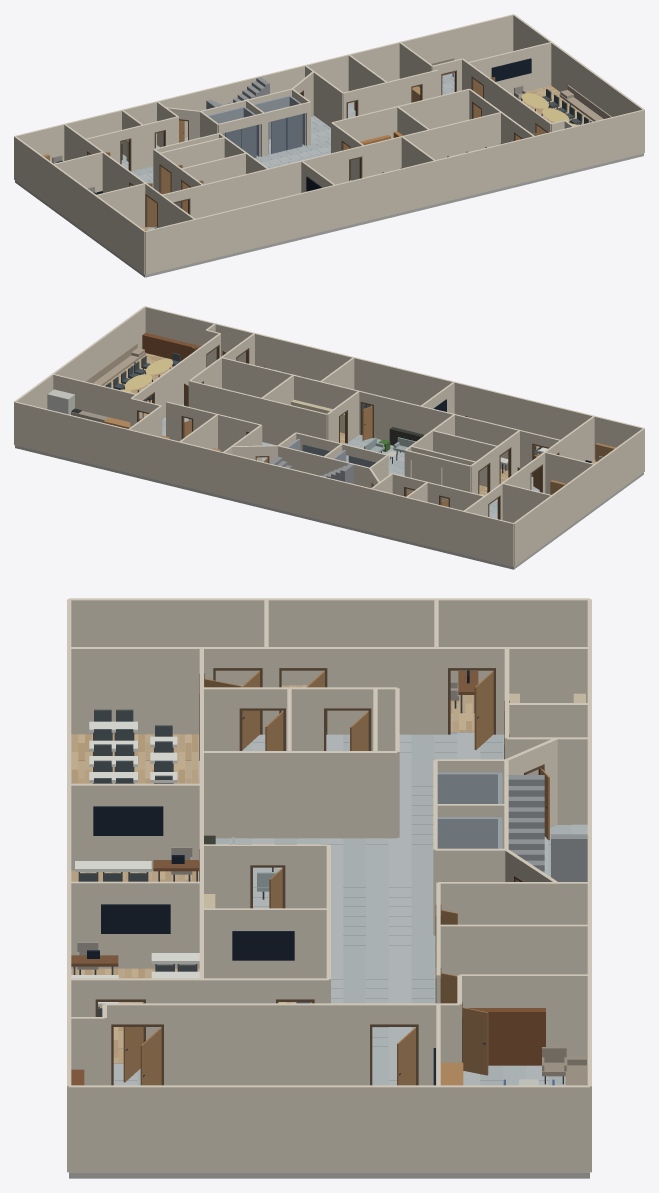
The model's file is bau-floor-8.glb.
The picture shows the model from 3 angles, top to bottom: view 1: azimuth 30°, elevation 25°; view 2: azimuth 150°, elevation 25°; view 3: azimuth 270°, elevation 25°; orthographic projection. The views are drawn at different scales.
Parts seen in each view (by area): view 1: Wall_20002, Wall_20000, Wall_20003, Wall_20016_2, Wall_20001, Wall_20019, Wall_20022, Wall_20037, Floor_slab, Wall_20016_4, Wall_20034_2, Wall_20036_2 (+25 smaller); view 2: Wall_20000, Wall_20002, Wall_20003, Wall_20019, Wall_20016_2, Wall_20001, Wall_20037, Floor_slab, Wall_20022, Wall_20036_2, Wall_20025, Wall_20016_4 (+26 smaller); view 3: Wall_20001, Wall_20003, Wall_20036_2, Wall_20014, Wall_20004_6, Wall_20004_2, Wall_20018, Wall_20017, Wall_20032, Wall_20021, Wall_20033, Wall_20031 (+41 smaller).
Boxes of the visible parts, <box> form: Wall_20002: <box>145,109,644,274</box>; Wall_20000: <box>14,14,513,162</box>; Wall_20003: <box>14,136,144,274</box>; Wall_20016_2: <box>189,149,348,218</box>; Wall_20001: <box>513,14,644,152</box>; Wall_20019: <box>332,88,469,141</box>; Wall_20022: <box>429,112,500,159</box>; Wall_20037: <box>468,42,551,94</box>; Floor_slab: <box>15,153,643,277</box>; Wall_20016_4: <box>361,129,429,177</box>; Wall_20034_2: <box>357,76,411,115</box>; Wall_20036_2: <box>484,75,536,133</box>; Wall_20000: <box>14,401,513,566</box>; Wall_20002: <box>145,306,644,459</box>; Wall_20003: <box>514,428,644,566</box>; Wall_20019: <box>189,380,327,450</box>; Wall_20016_2: <box>374,394,533,476</box>; Wall_20001: <box>14,306,145,444</box>; Wall_20037: <box>53,374,136,422</box>; Floor_slab: <box>15,445,643,569</box>; Wall_20022: <box>221,357,293,397</box>; Wall_20036_2: <box>153,344,206,419</box>; Wall_20025: <box>278,445,369,487</box>; Wall_20016_4: <box>293,375,361,434</box>; Wall_20001: <box>69,1085,589,1172</box>; Wall_20003: <box>69,598,589,685</box>; Wall_20036_2: <box>164,1003,369,1085</box>; Wall_20014: <box>203,751,397,838</box>; Wall_20004_6: <box>69,647,213,734</box>; Wall_20004_2: <box>327,647,447,734</box>; Wall_20018: <box>71,881,199,968</box>; Wall_20017: <box>71,783,199,870</box>; Wall_20032: <box>438,924,589,975</box>; Wall_20021: <box>204,908,326,978</box>; Wall_20033: <box>459,974,589,1061</box>; Wall_20031: <box>438,882,587,924</box>.
Bounding box in the file's own units: 32.92 × 2.9 × 14.95.
